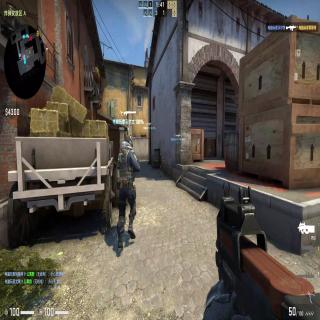CT-Body: (116, 134, 140, 250)
CT-Head: (124, 136, 132, 151)
